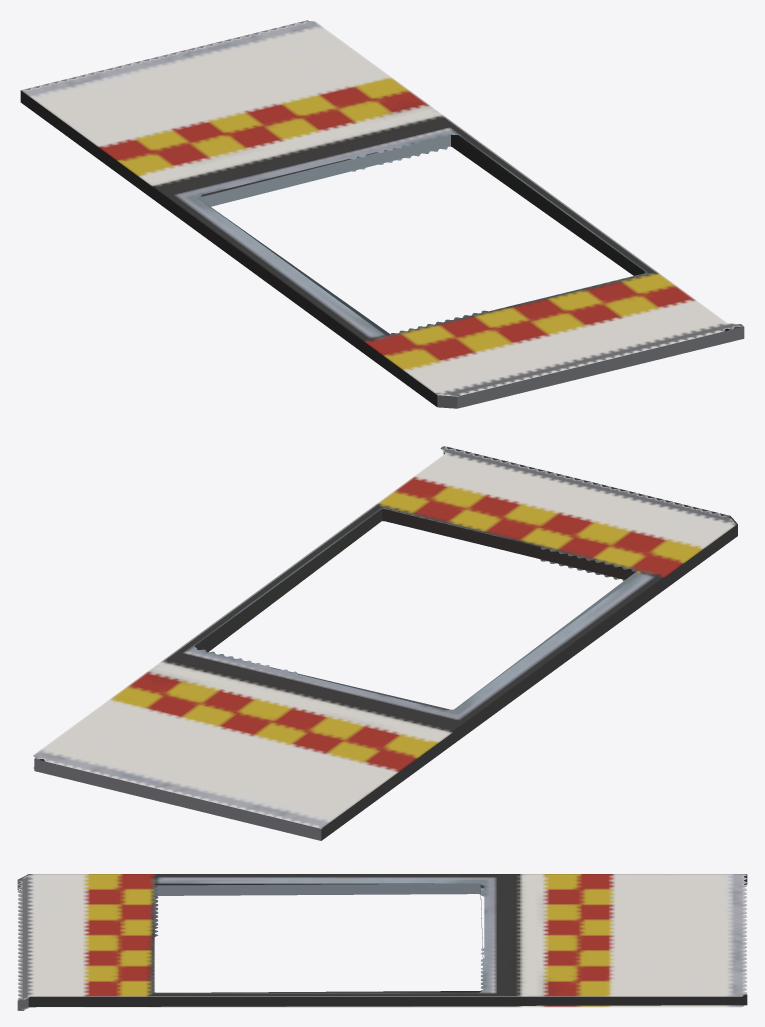
Rendered from pz_native_location_shop_gas2go_01_5_frame.obj.
The picture shows the model from 3 angles, top to bottom: view 1: azimuth 30°, elevation 25°; view 2: azimuth 150°, elevation 25°; view 3: azimuth 270°, elevation 25°; orthographic projection. The views are drawn at different scales.
Parts seen in each view (by area): view 1: pz_native_location_shop_gas2go_01_5_frame; view 2: pz_native_location_shop_gas2go_01_5_frame; view 3: pz_native_location_shop_gas2go_01_5_frame.
Part boxes in pixels (<box>): pz_native_location_shop_gas2go_01_5_frame: <box>20,20,744,408</box>; pz_native_location_shop_gas2go_01_5_frame: <box>33,446,737,840</box>; pz_native_location_shop_gas2go_01_5_frame: <box>17,874,747,1010</box>.
Bounding box in the file's own units: 1.06 × 0.04 × 2.54.
Materials: 1 (1 with a texture image).
